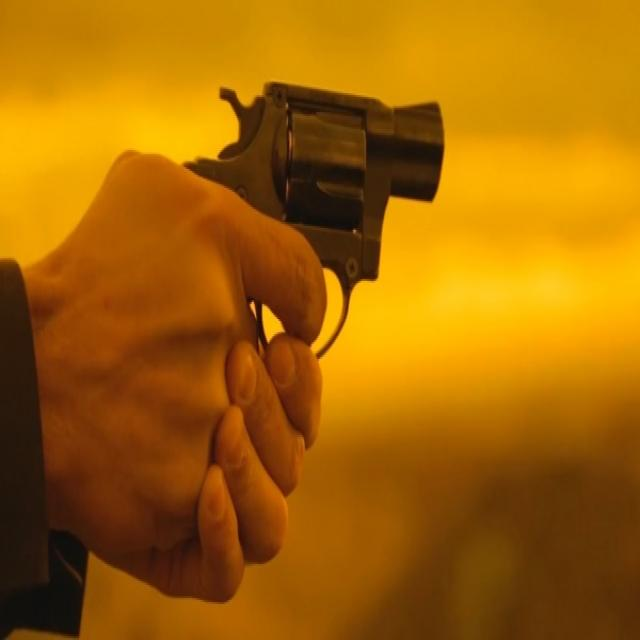weapons: (166, 68, 453, 419)
